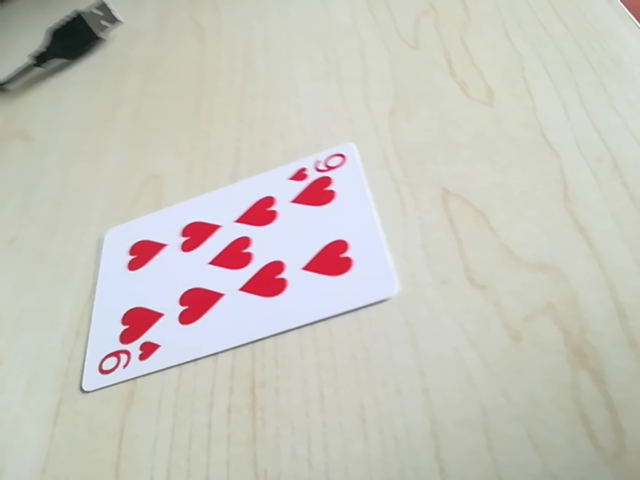hx 9: (95, 341, 163, 381), (289, 150, 352, 184)
